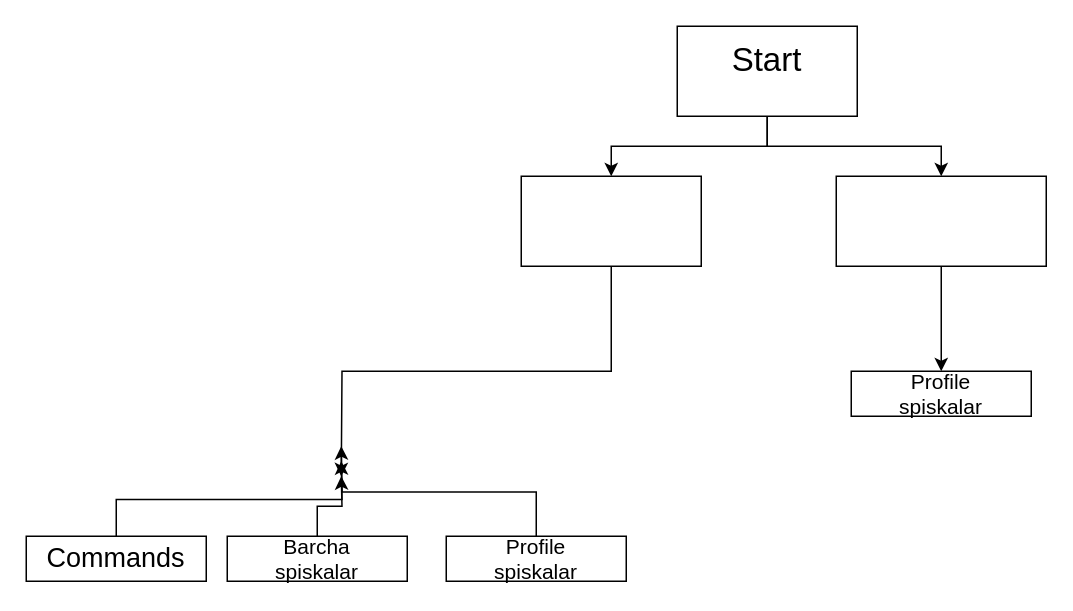
This 1073x611 diagram has some shape labels left out. Each missing label, with the centre of its shape:
"SUPERADMIN" goes at pixel 610 220.
"USER" goes at pixel 940 220.
